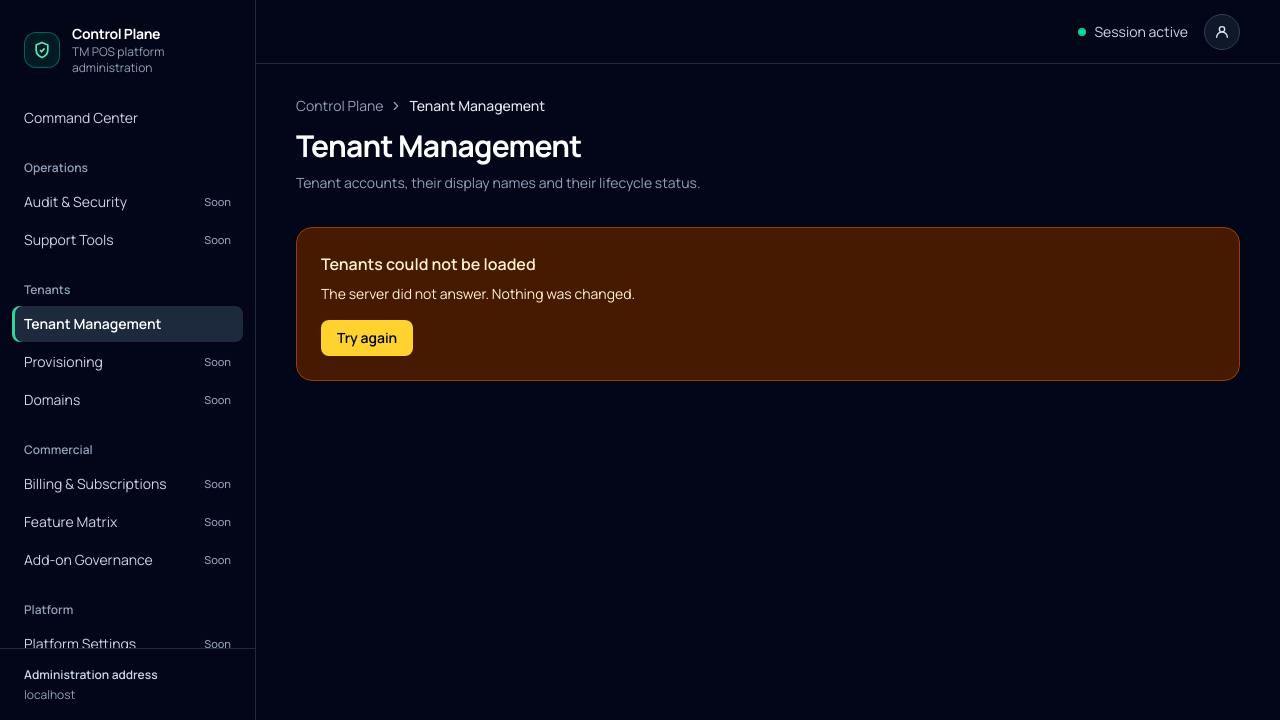
Test: Tenant Management: the directory › shows a bounded failure when the server fails, and Try again reads the list
Expected: the heading "Tenant Management" is shown, [296,125,582,166]
Expected: the heading "Tenants could not be loaded" is shown, [321,253,536,275]
Click the button "Try again" at (367,338), box [321,320,413,356]
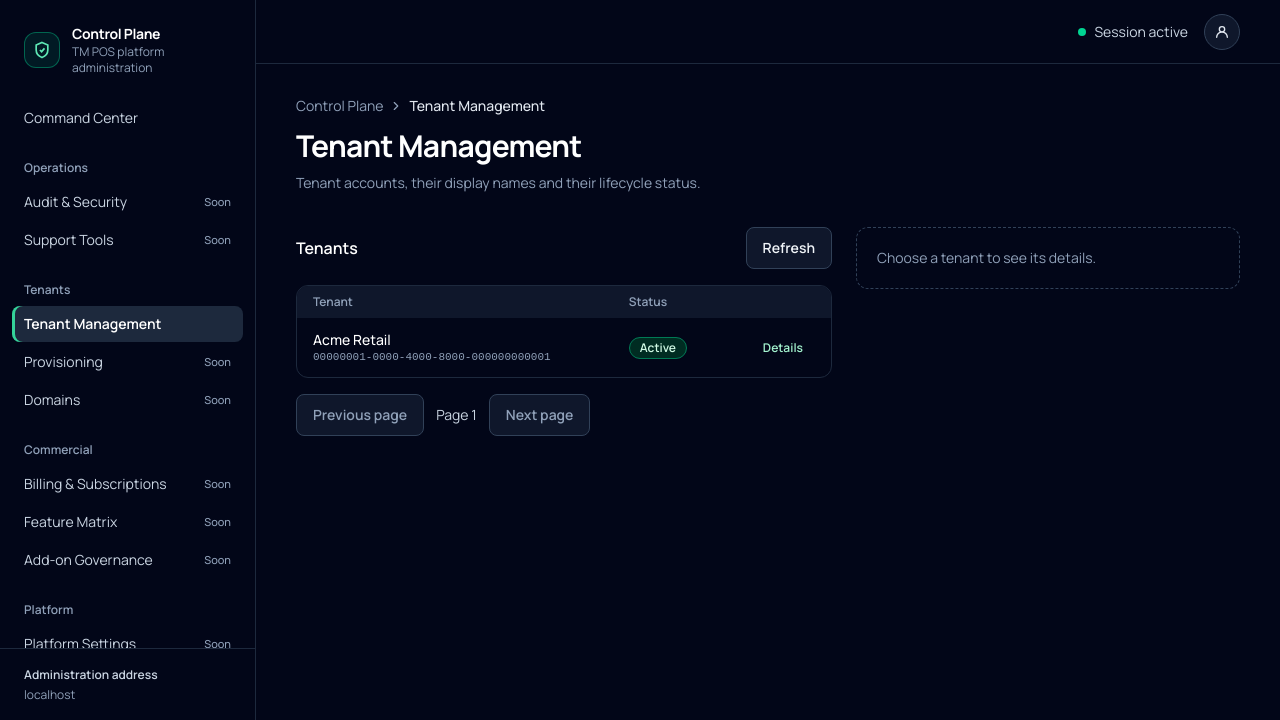
Now the table is shown, box [297,286,831,378]
Now the message "Tenants could not be loaded The server did not answer. Nothing was changed. Try" is gone
